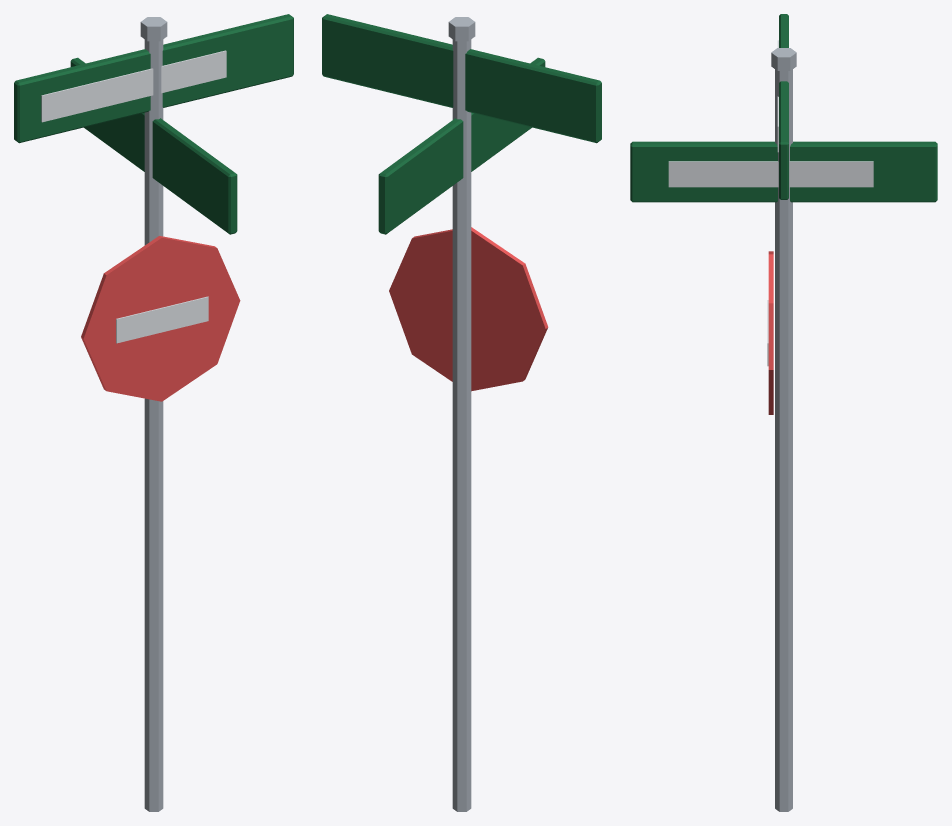
The model's file is street_sign.glb.
The picture shows the model from 3 angles, left to right: view 1: azimuth 30°, elevation 25°; view 2: azimuth 150°, elevation 25°; view 3: azimuth 270°, elevation 25°; orthographic projection. The views are drawn at different scales.
Visible parts, largest first — view 1: street_sign; view 2: street_sign; view 3: street_sign.
Boxes of the visible parts, x1,y1,x2,y2 form: street_sign: (14,14,293,811); street_sign: (322,14,601,811); street_sign: (630,14,937,811).
Size of the model in its own units: 1.2 by 3.26 by 1.2.
